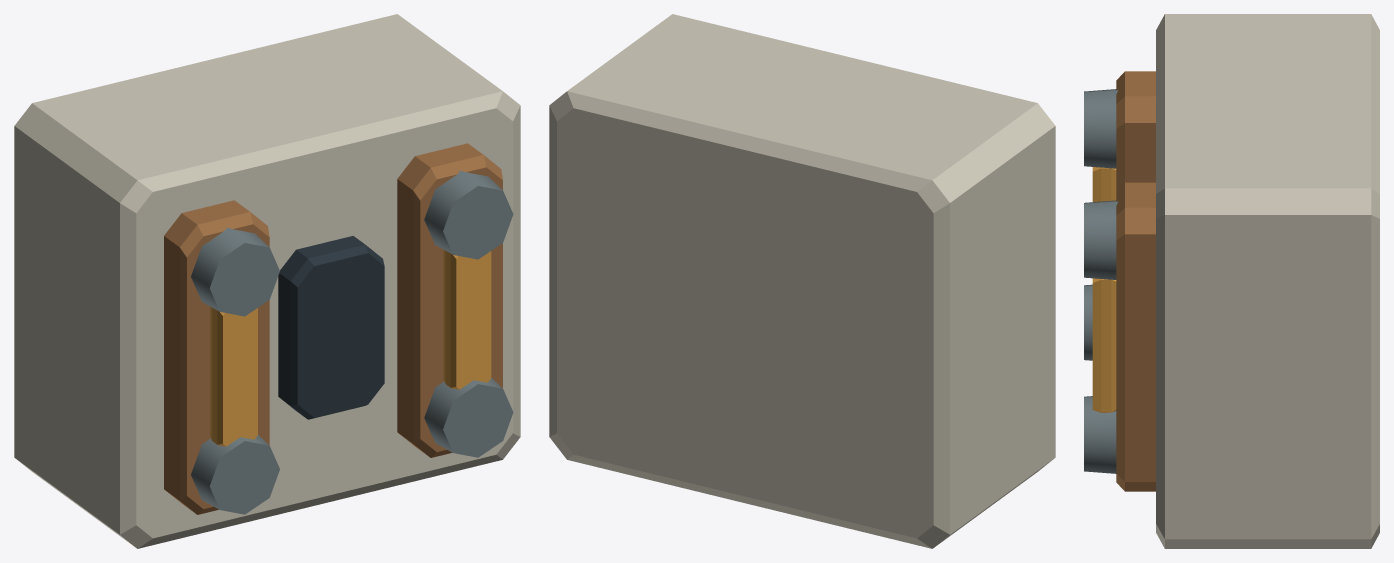
File: boss_bus_relay.glb
The picture shows the model from 3 angles, left to right: view 1: azimuth 30°, elevation 25°; view 2: azimuth 150°, elevation 25°; view 3: azimuth 270°, elevation 25°; orthographic projection. The views are drawn at different scales.
Parts seen in each view (by area): view 1: boss_bus_relay; view 2: boss_bus_relay; view 3: boss_bus_relay.
Part boxes in pixels (<box>): boss_bus_relay: <box>14,14,520,548</box>; boss_bus_relay: <box>549,14,1055,548</box>; boss_bus_relay: <box>1084,14,1379,548</box>.
Bounding box in the file's own units: 1.82 × 1.6 × 1.19.
